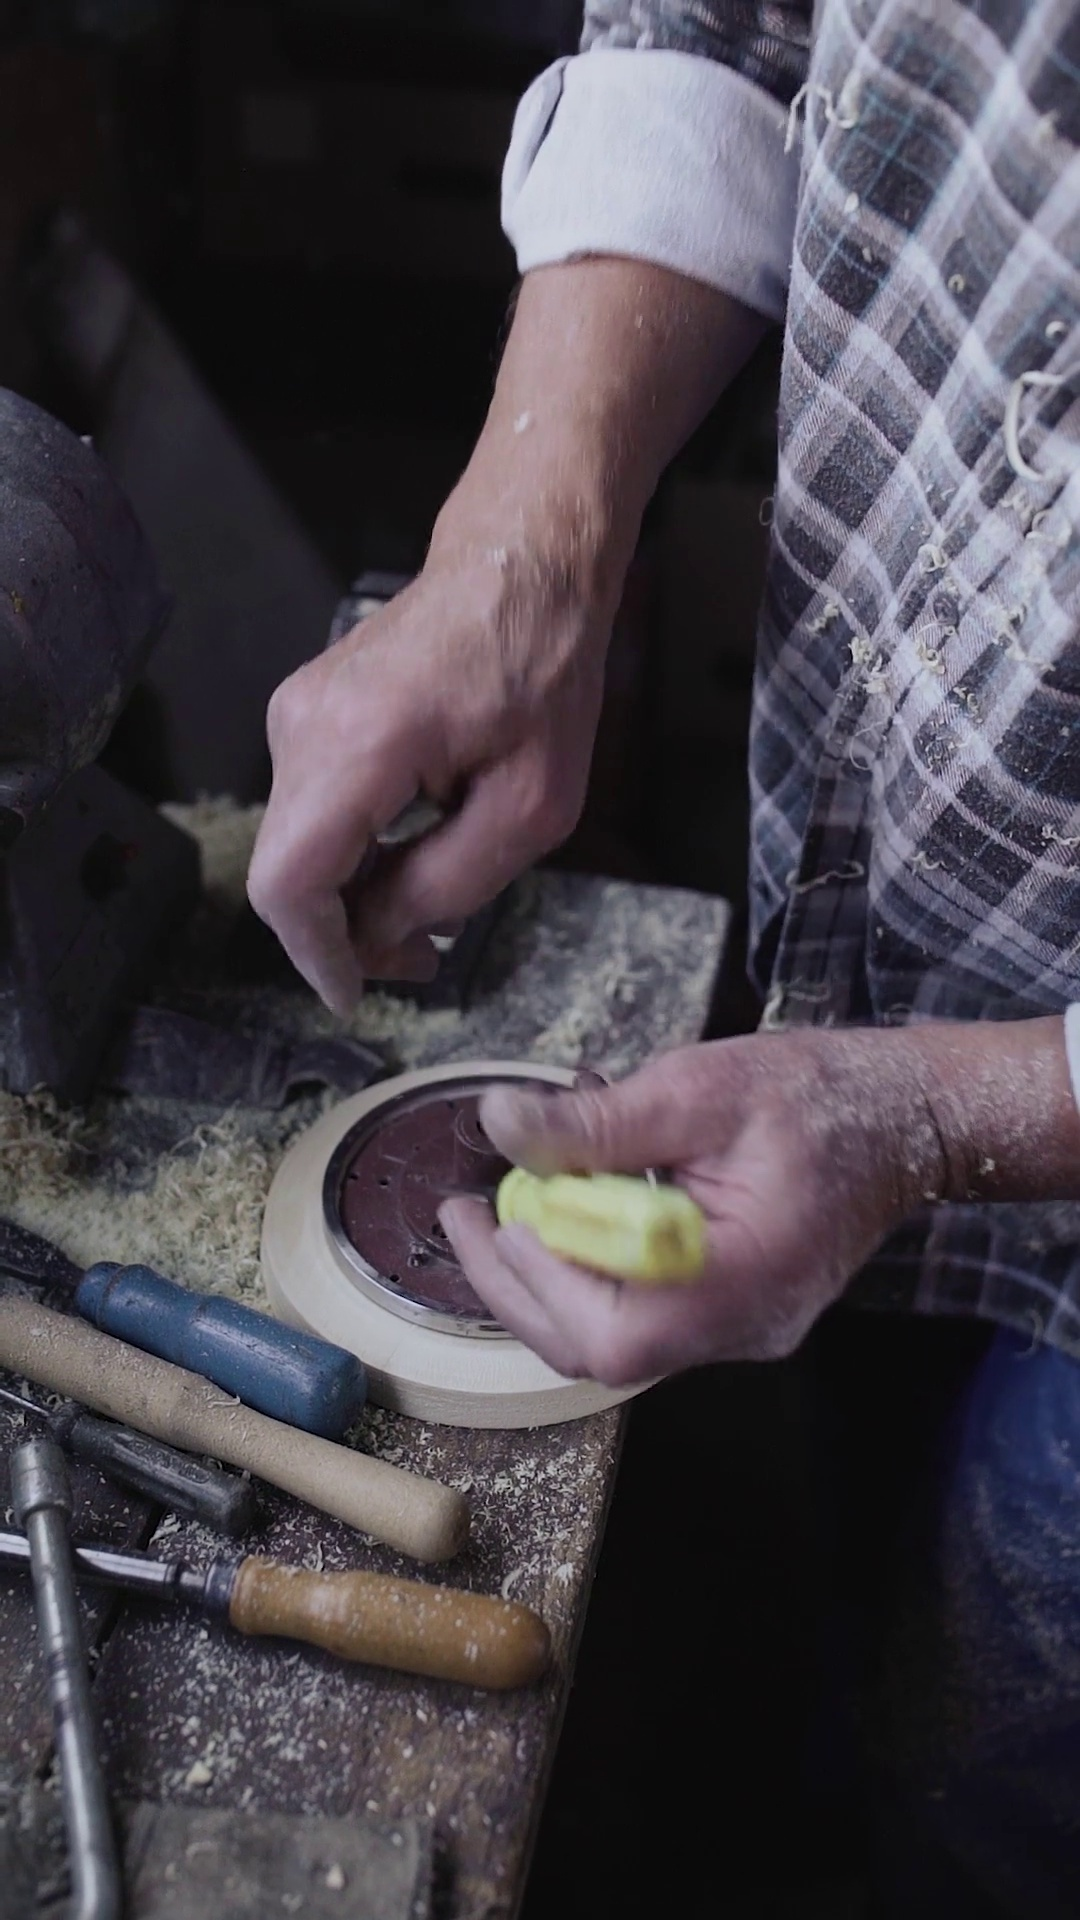screwdriver: (429, 1160, 716, 1288)
